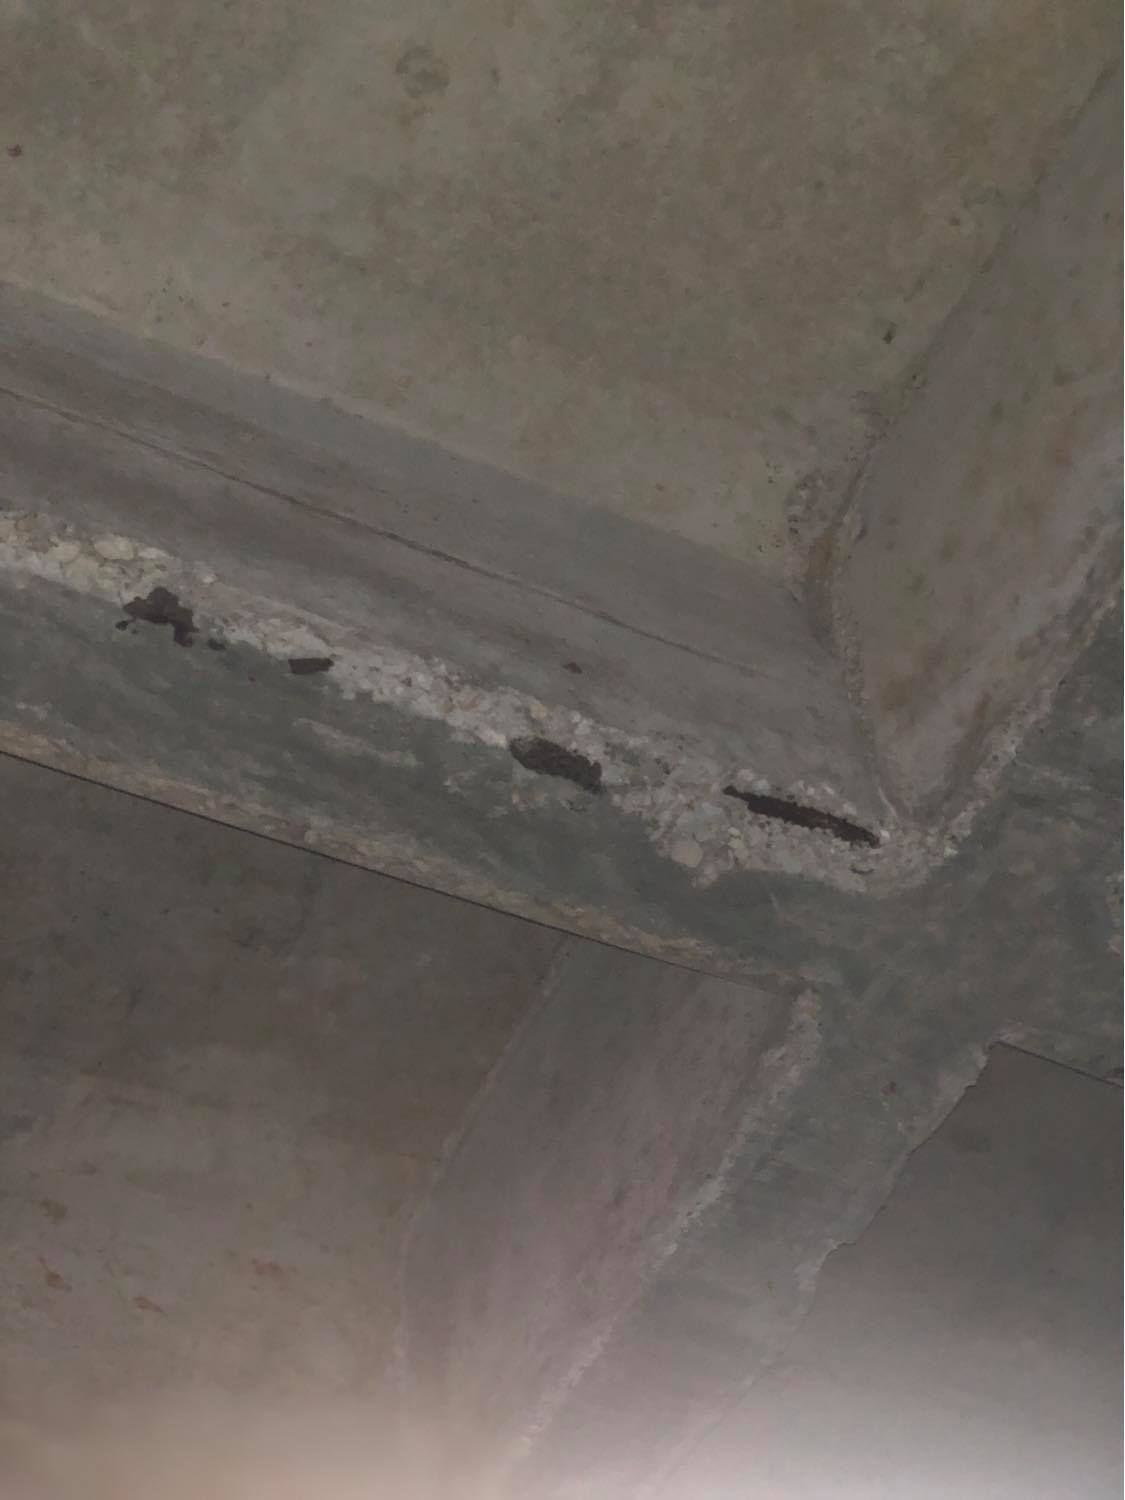Exposed reinforcement: (722, 783, 884, 852), (507, 733, 604, 798), (113, 583, 201, 648), (285, 656, 337, 677)
Spalling: (43, 529, 951, 898)
